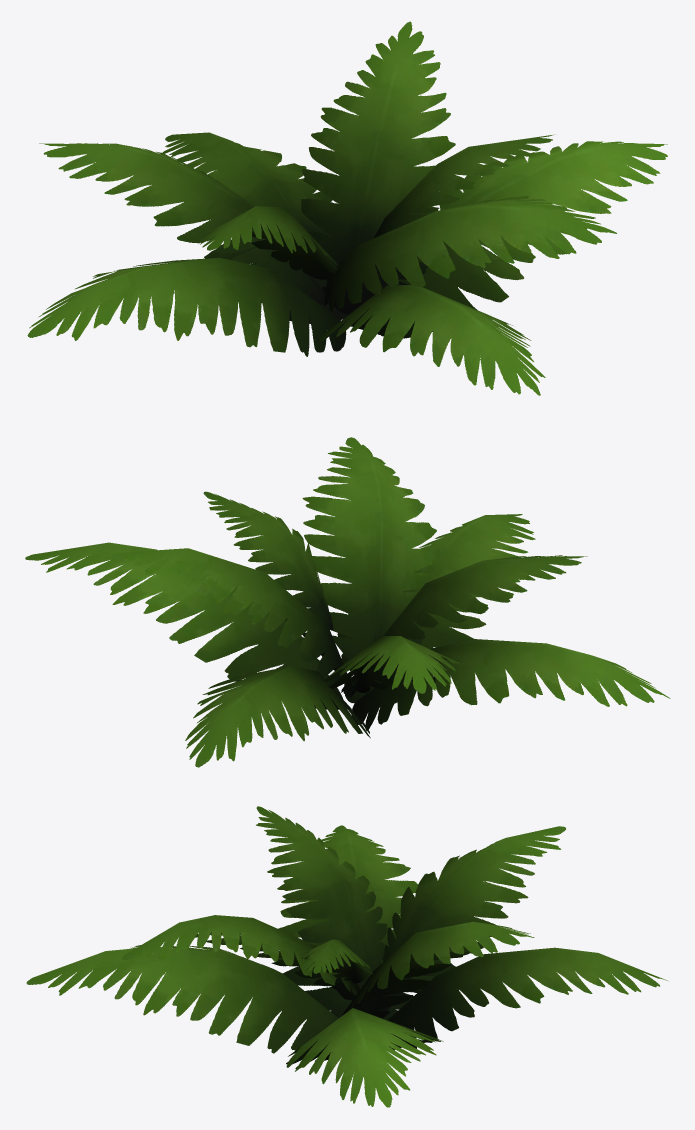
File: n_fern_1.glb
3 renders of one model, top to bottom at view 1: azimuth 30°, elevation 25°; view 2: azimuth 150°, elevation 25°; view 3: azimuth 270°, elevation 25°, orthographic. The views are drawn at different scales.
Parts seen in each view (by area): view 1: Fern_1; view 2: Fern_1; view 3: Fern_1.
Boxes of the visible parts, box(x1,y1,x2,y2) form: Fern_1: box(27, 21, 667, 395); Fern_1: box(25, 437, 670, 767); Fern_1: box(26, 806, 667, 1107).
Bounding box in the file's own units: 2.83 × 0.8404 × 2.65.
1 material, 1 textured.
